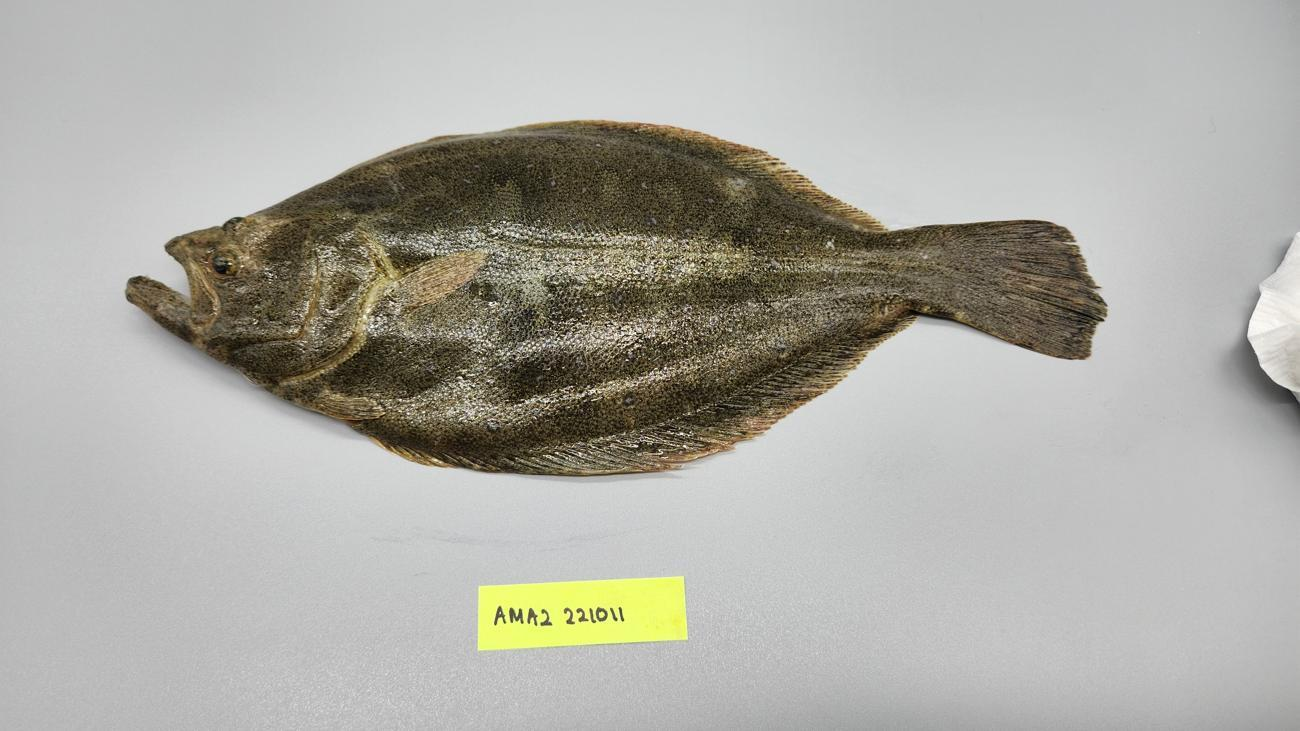MAOUY: (122, 121, 1106, 472)
